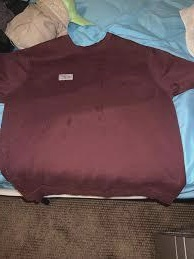oil: (93, 99, 106, 122), (66, 114, 75, 129)
